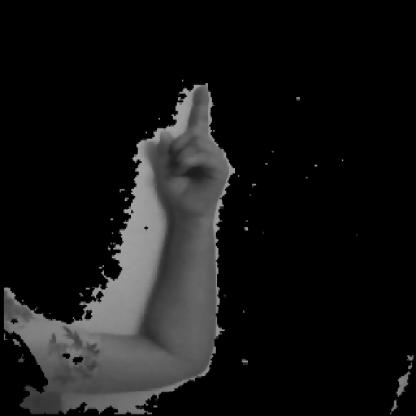one: (85, 83, 249, 387)
